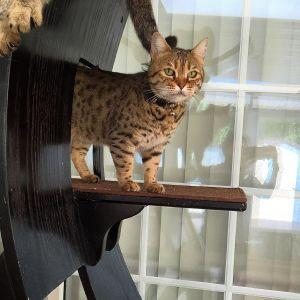bengal: (140, 22, 213, 110)
